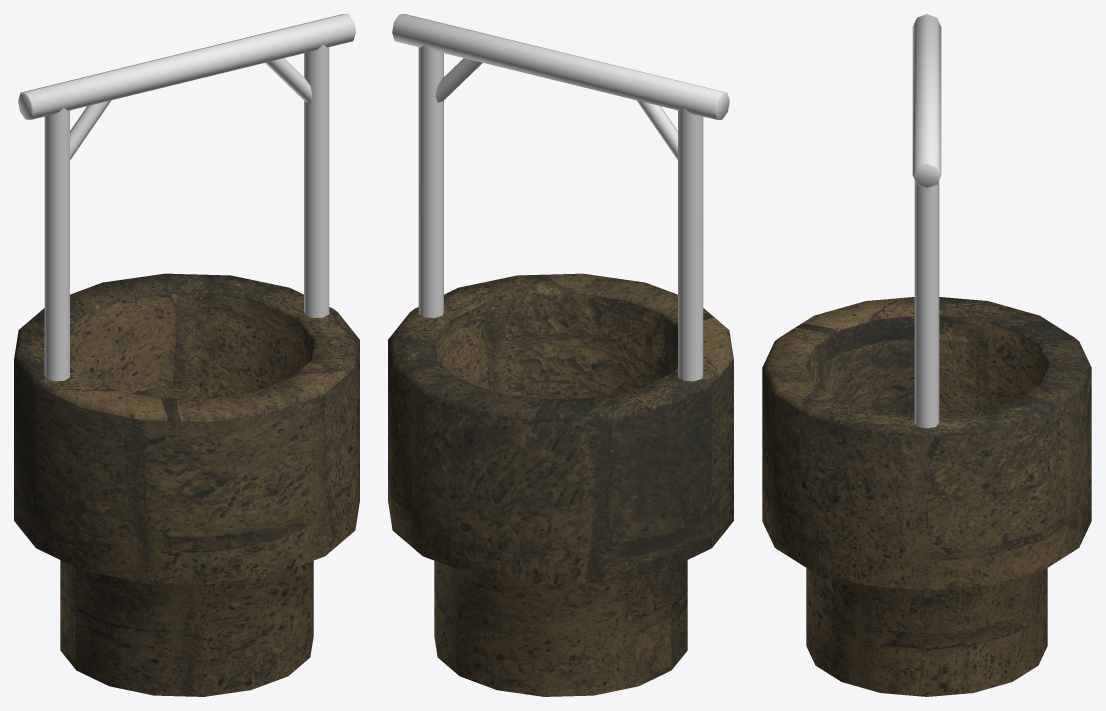
Rendered from SM_Well.fbx.
3 renders of one model, left to right at view 1: azimuth 30°, elevation 25°; view 2: azimuth 150°, elevation 25°; view 3: azimuth 270°, elevation 25°, orthographic. The views are drawn at different scales.
Parts seen in each view (by area): view 1: Cylinder.003; view 2: Cylinder.003; view 3: Cylinder.003.
Boxes of the visible parts, bbox=[...] form: Cylinder.003: bbox=[14, 14, 359, 696]; Cylinder.003: bbox=[388, 14, 733, 696]; Cylinder.003: bbox=[762, 14, 1091, 696].
Size of the model in its own units: 347 by 604 by 324.
